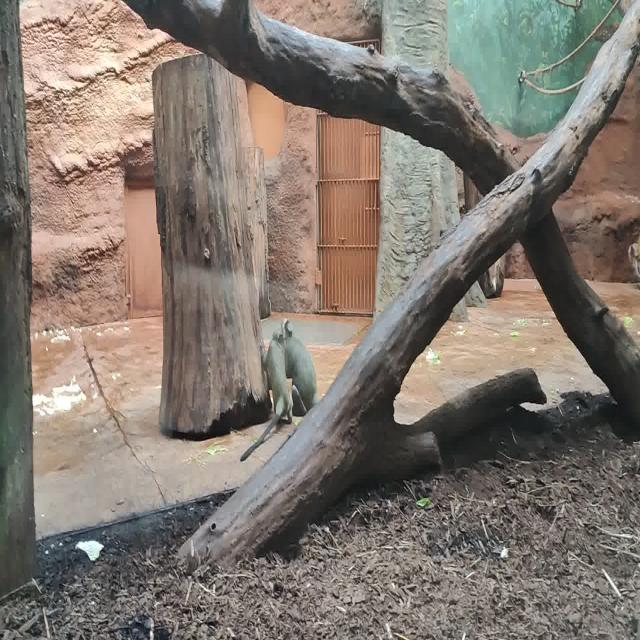monkey: (240, 327, 293, 461), (281, 318, 320, 416)
